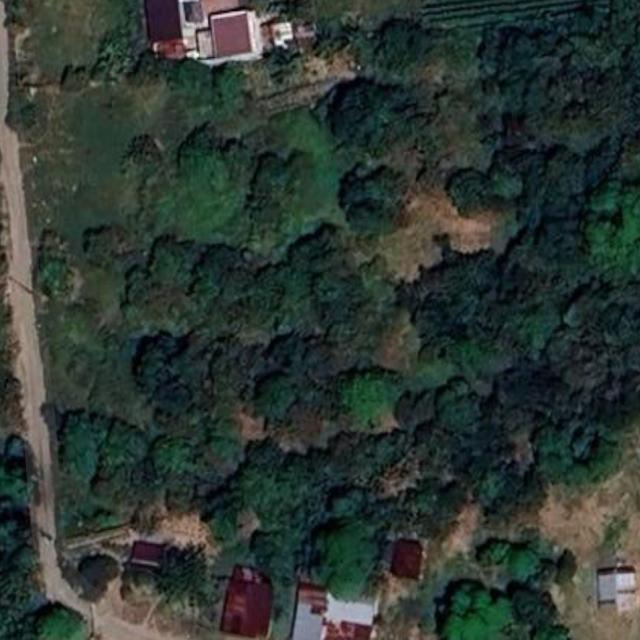Tree: (128, 339, 201, 421), (331, 74, 410, 148), (570, 289, 640, 372), (511, 225, 582, 302), (407, 248, 496, 308), (577, 196, 640, 280), (161, 543, 223, 614), (441, 581, 512, 640), (375, 21, 438, 87), (87, 405, 147, 473), (209, 333, 259, 414), (185, 126, 249, 189), (510, 52, 568, 121), (324, 526, 381, 595), (342, 170, 403, 233), (461, 297, 518, 363), (148, 230, 203, 292), (490, 469, 547, 526), (495, 363, 561, 412), (479, 538, 542, 588), (259, 332, 324, 380), (535, 147, 590, 203), (344, 375, 395, 435), (516, 294, 566, 354), (562, 26, 617, 80), (250, 150, 297, 213), (586, 68, 640, 122), (286, 226, 342, 277), (59, 409, 97, 482), (435, 376, 483, 432), (190, 436, 243, 486), (568, 358, 619, 409), (23, 602, 88, 640), (391, 388, 441, 436), (148, 432, 194, 483), (255, 375, 302, 424), (518, 585, 564, 635), (449, 166, 493, 218), (533, 428, 571, 487), (535, 546, 580, 593), (581, 432, 625, 480), (193, 240, 240, 284), (128, 130, 168, 178), (80, 544, 118, 593), (413, 328, 467, 362), (83, 224, 117, 274), (136, 48, 175, 90), (489, 161, 527, 203), (41, 253, 78, 295), (320, 484, 365, 517), (442, 479, 476, 522), (501, 24, 537, 64), (244, 440, 282, 473), (588, 183, 620, 219), (125, 265, 151, 304), (279, 453, 311, 482), (304, 442, 334, 470)
